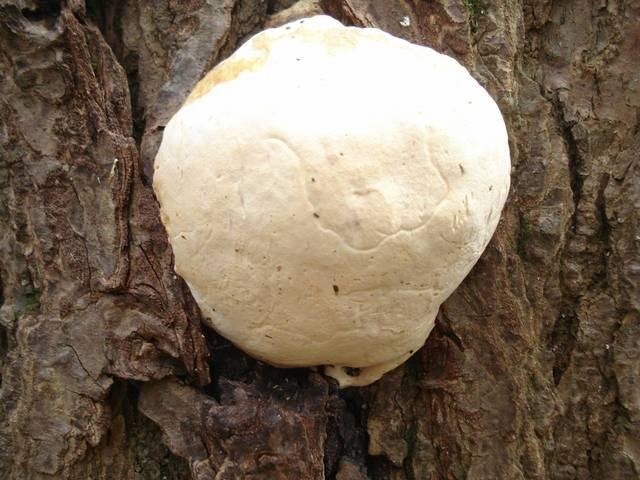Non-edible Mushroom: (150, 13, 513, 389)
